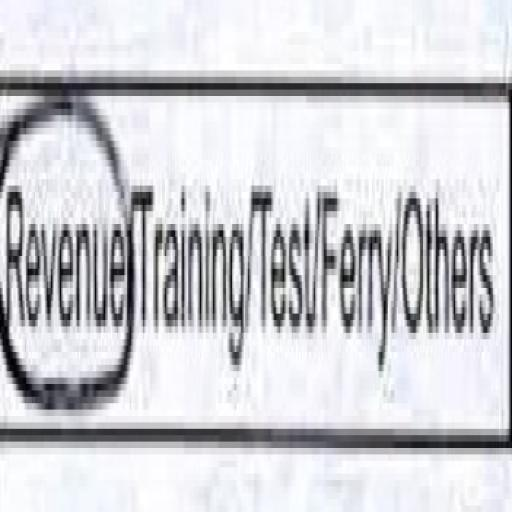check: (1, 45, 130, 511)
